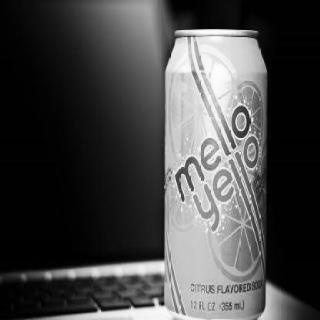alumunium_can: (162, 28, 268, 320)
